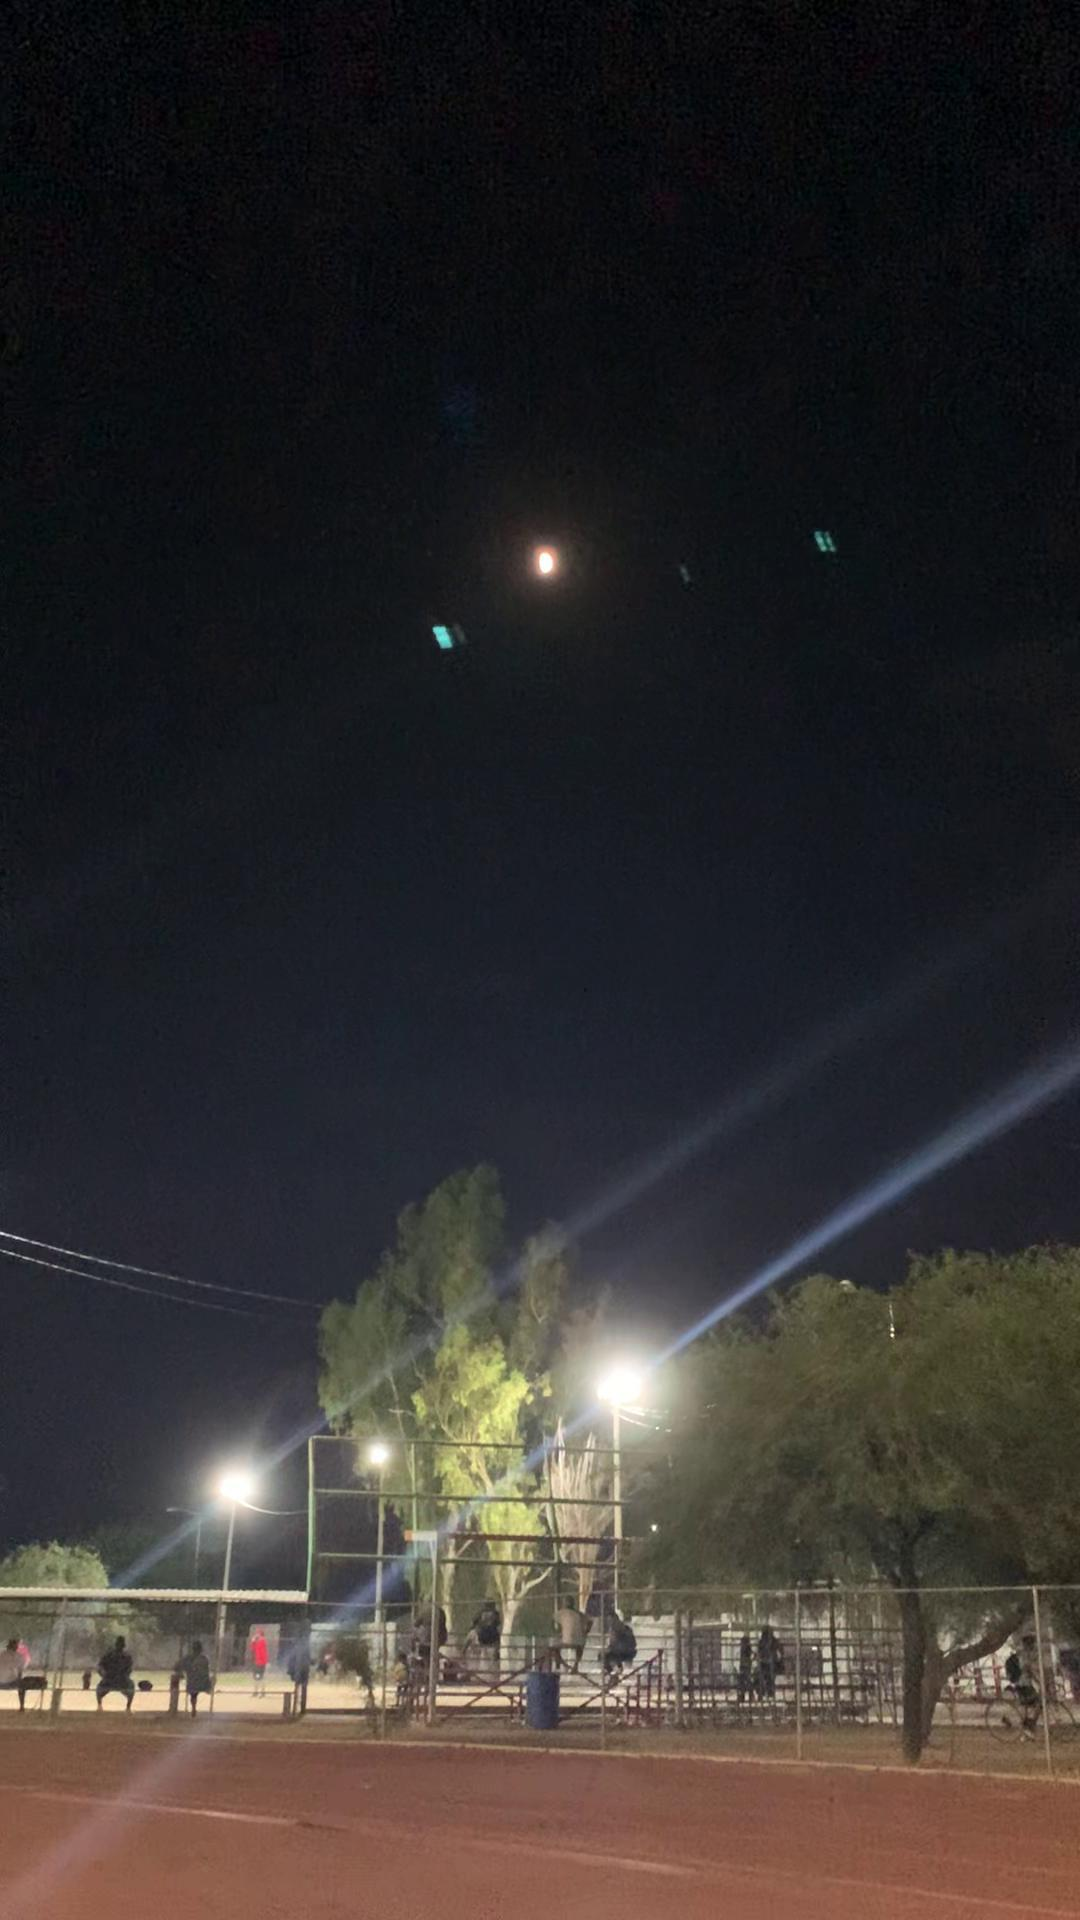moon: (514, 530, 583, 596)
